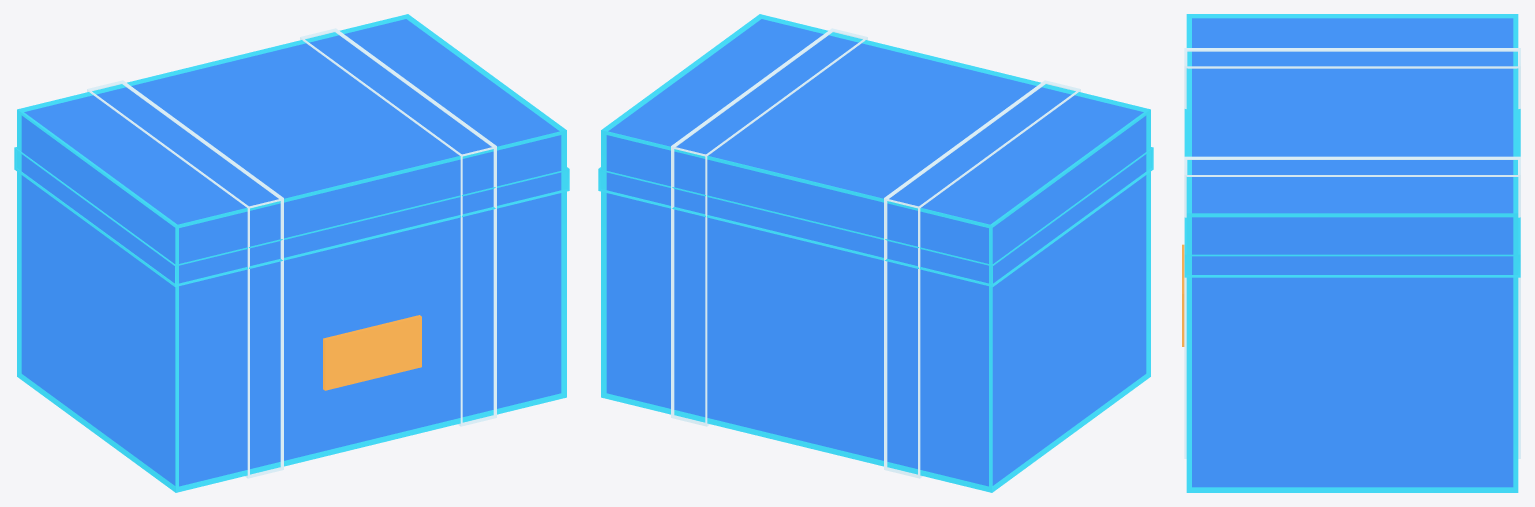
File: crate.glb
The picture shows the model from 3 angles, left to right: view 1: azimuth 30°, elevation 25°; view 2: azimuth 150°, elevation 25°; view 3: azimuth 270°, elevation 25°; orthographic projection. The views are drawn at different scales.
Visible parts, largest first — view 1: body; view 2: body; view 3: body.
Part boxes in pixels (x1,y1,x2,y2): body: (14,14,569,492); body: (598,14,1153,492); body: (1182,14,1520,492).
Size of the model in its own units: 1 by 0.6581 by 0.7116.
